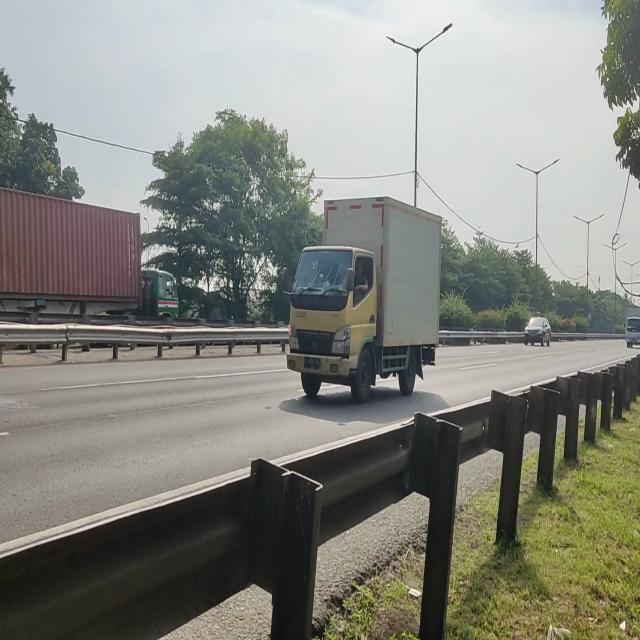Golongan II: (284, 188, 440, 404)
